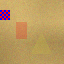structure: (30, 31, 52, 53)
vehicle: (15, 21, 26, 38)
